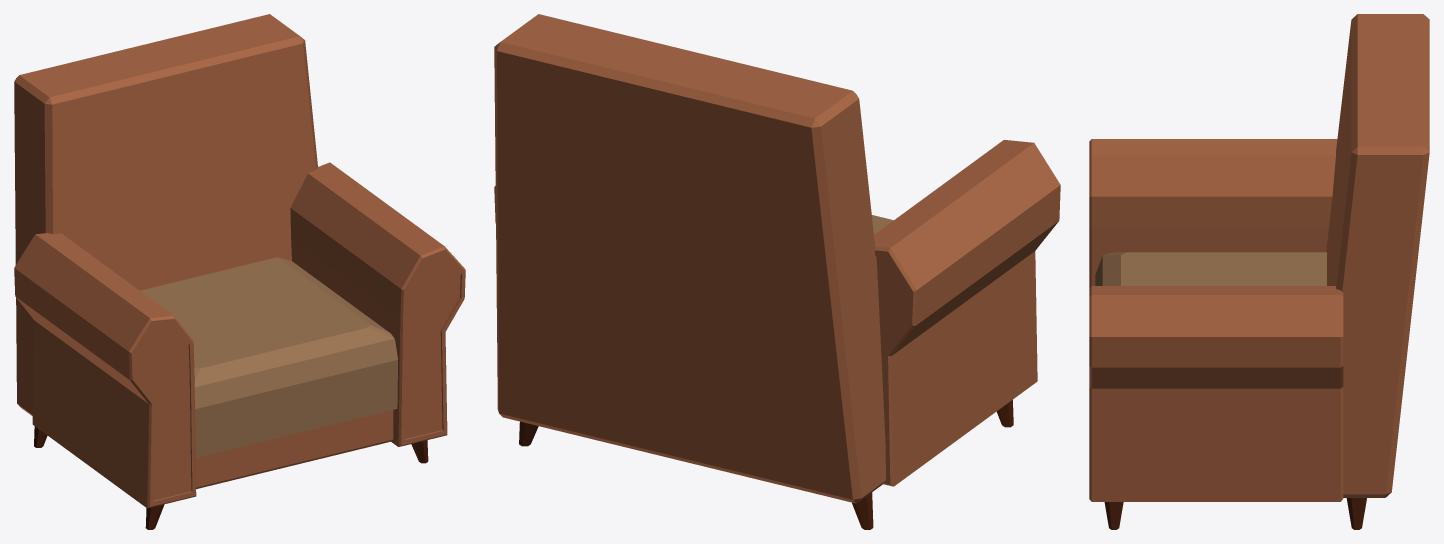
The model's file is ClubArmChair1.glb.
3 views of the same model, side by side, from view 1: azimuth 30°, elevation 25°; view 2: azimuth 150°, elevation 25°; view 3: azimuth 270°, elevation 25° (orthographic). The views are drawn at different scales.
Parts seen in each view (by area): view 1: ClubArmChair1, Pad1ClubArmChair1; view 2: ClubArmChair1; view 3: ClubArmChair1, Pad1ClubArmChair1.
Part boxes in pixels (bbox=[...]): ClubArmChair1: bbox=[14, 14, 465, 529]; Pad1ClubArmChair1: bbox=[140, 257, 397, 457]; ClubArmChair1: bbox=[494, 14, 1060, 529]; ClubArmChair1: bbox=[1089, 14, 1429, 529]; Pad1ClubArmChair1: bbox=[1095, 252, 1326, 285].
Bounding box in the file's own units: 1.12 × 1.1 × 0.906.
